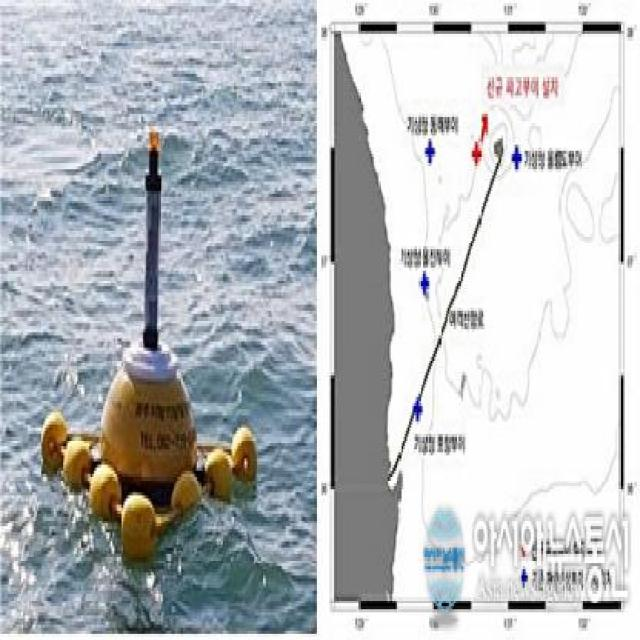buoy: (27, 106, 264, 564)
